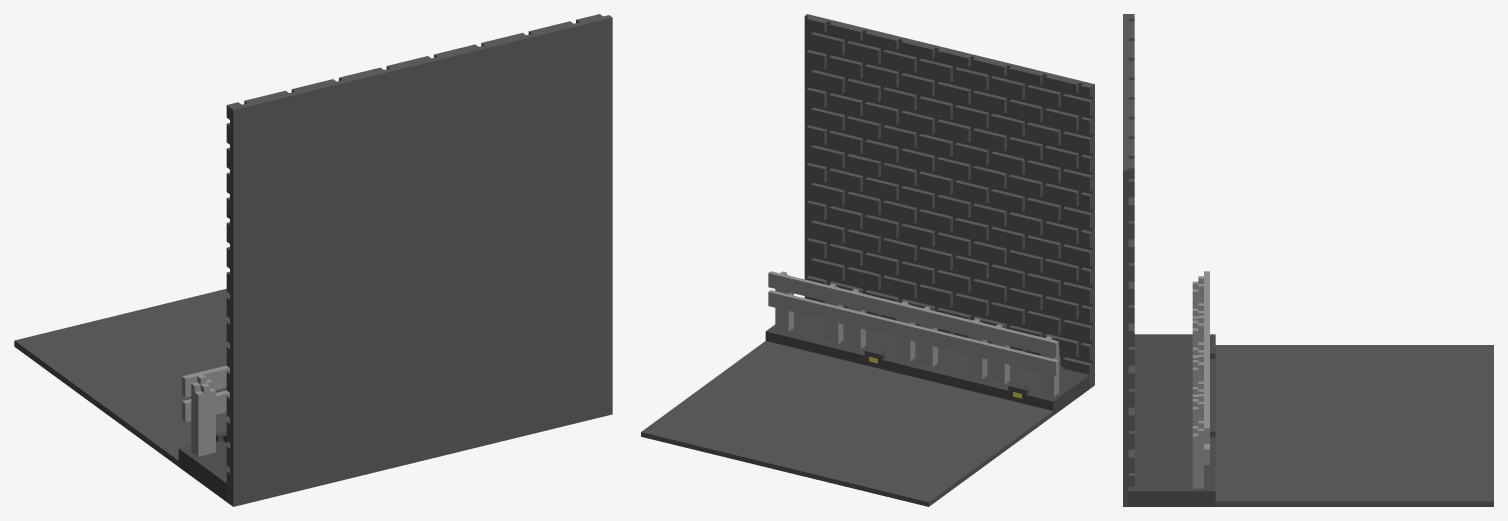
Rendered from MapV3-27.obj.
3 renders of one model, left to right at view 1: azimuth 30°, elevation 25°; view 2: azimuth 150°, elevation 25°; view 3: azimuth 270°, elevation 25°, orthographic. The views are drawn at different scales.
Bounding box in the file's own units: 6.4 × 6.4 × 6.4.
1 material, 1 textured.
